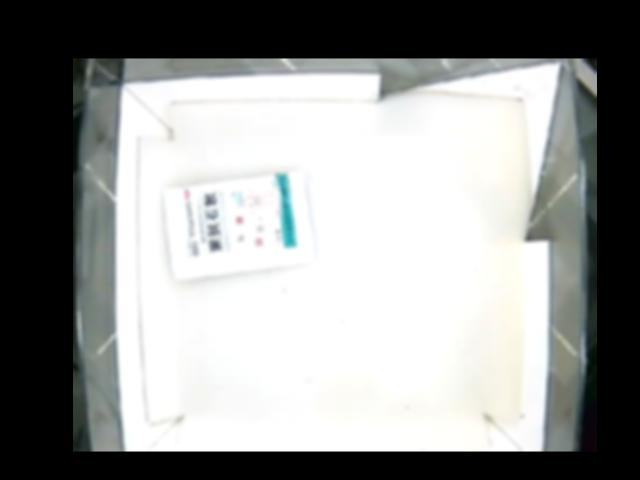Medicine: (162, 165, 314, 279)
